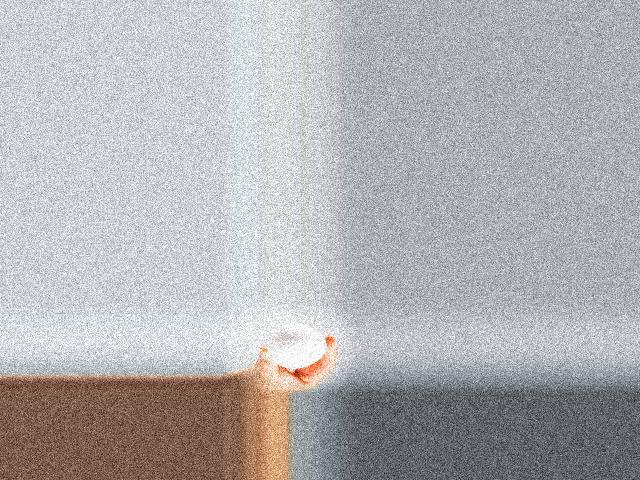egg: (268, 324, 326, 368)
